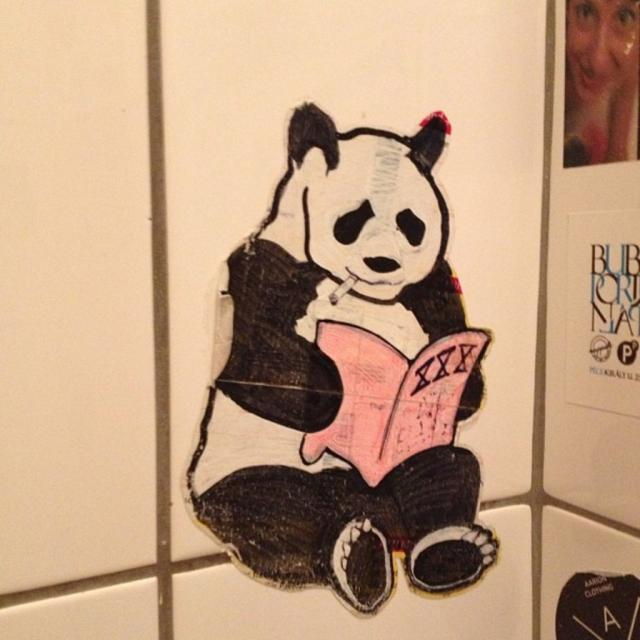panda: (184, 98, 500, 616)
